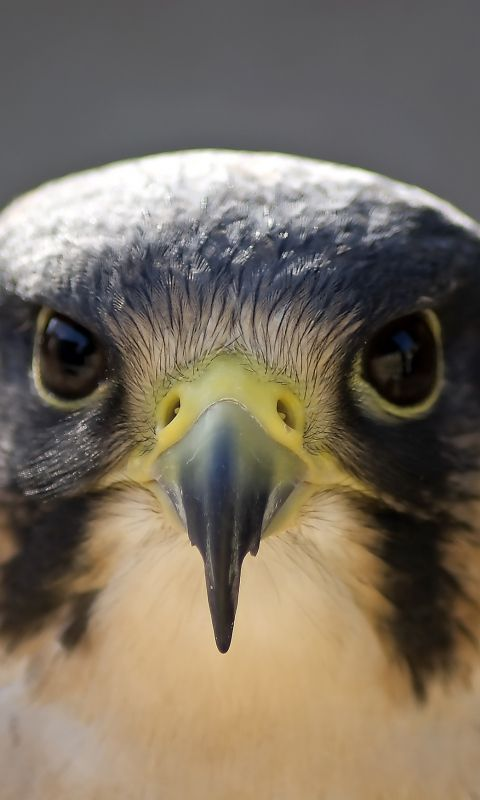Pengoyak Daging: (141, 379, 312, 659)
